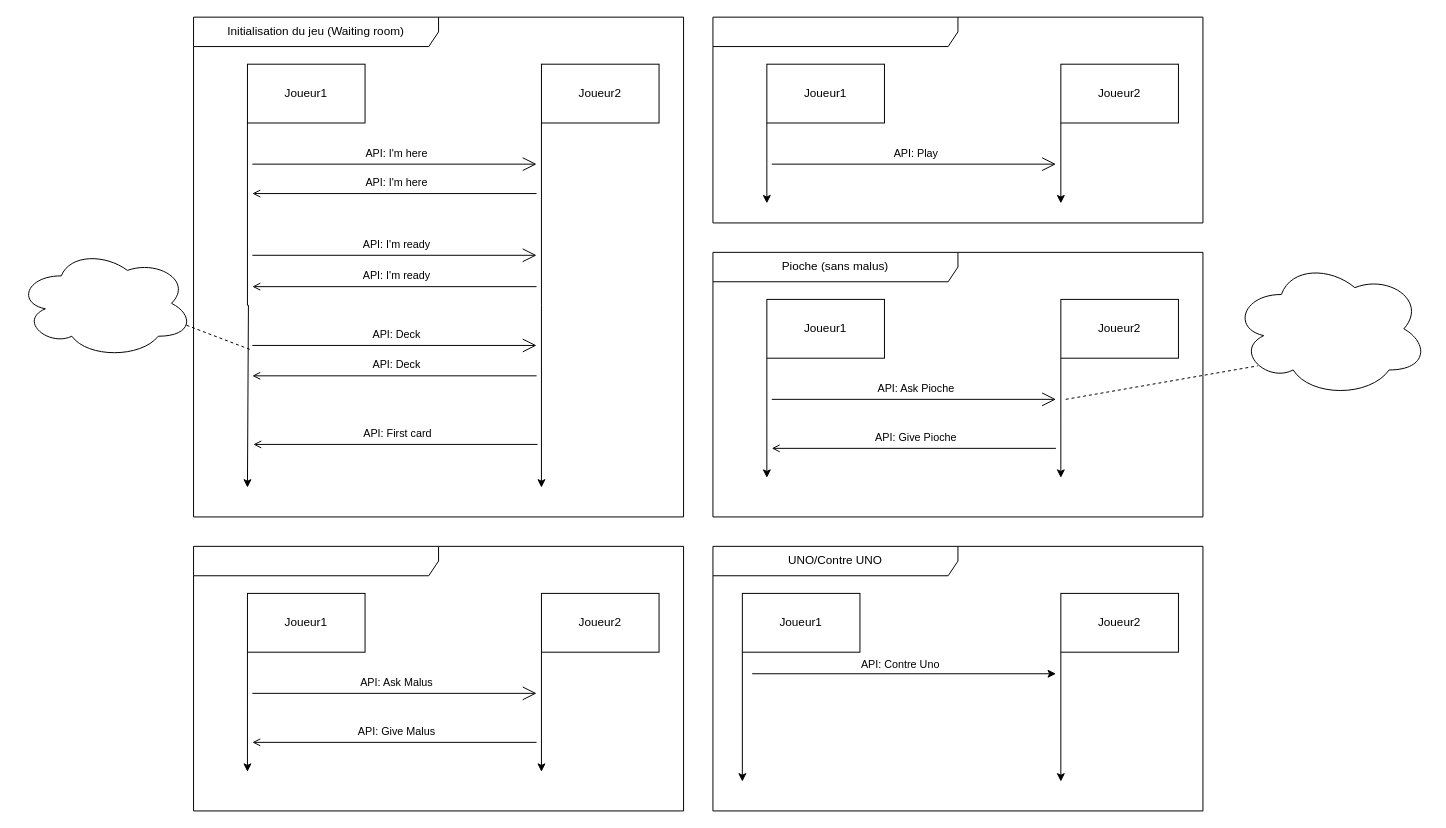
This 1446x828 diagram has some shape labels left out. The shapes that lost their labels are listed below. From the top down, each one's centre as x and y in pixels, then its label:
At (x=957, y=119): "Jouer une carte basique (sans malus)".
At (x=105, y=302): "Le joueur 1 choisis les cartes du joueur 2 et vice versa".
At (x=1329, y=328): "Le joueur 1 demande au joueur 2 de choisir la carte qu'il doit piocher".
At (x=438, y=678): "Pioche (avec malus)".
